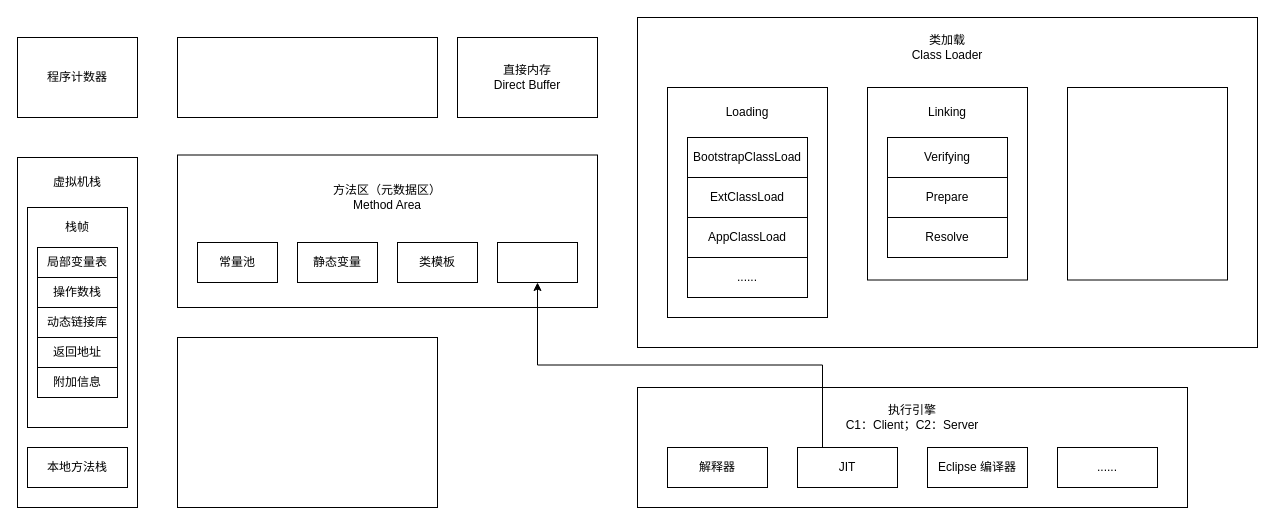
Some shapes in this 1275 by 525 pixel diagram are drawn without their labels. Each missing label, with the box of its shape:
Initialization: (1066, 86, 1228, 280)
堆 Heap: (176, 36, 438, 118)
本地方法库 Native Method: (176, 336, 438, 508)
热点代码: (496, 242, 578, 282)
